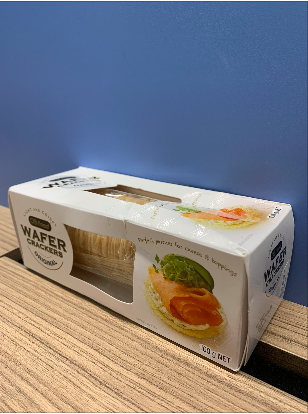Crackers_100-199g: (23, 195, 247, 319)
